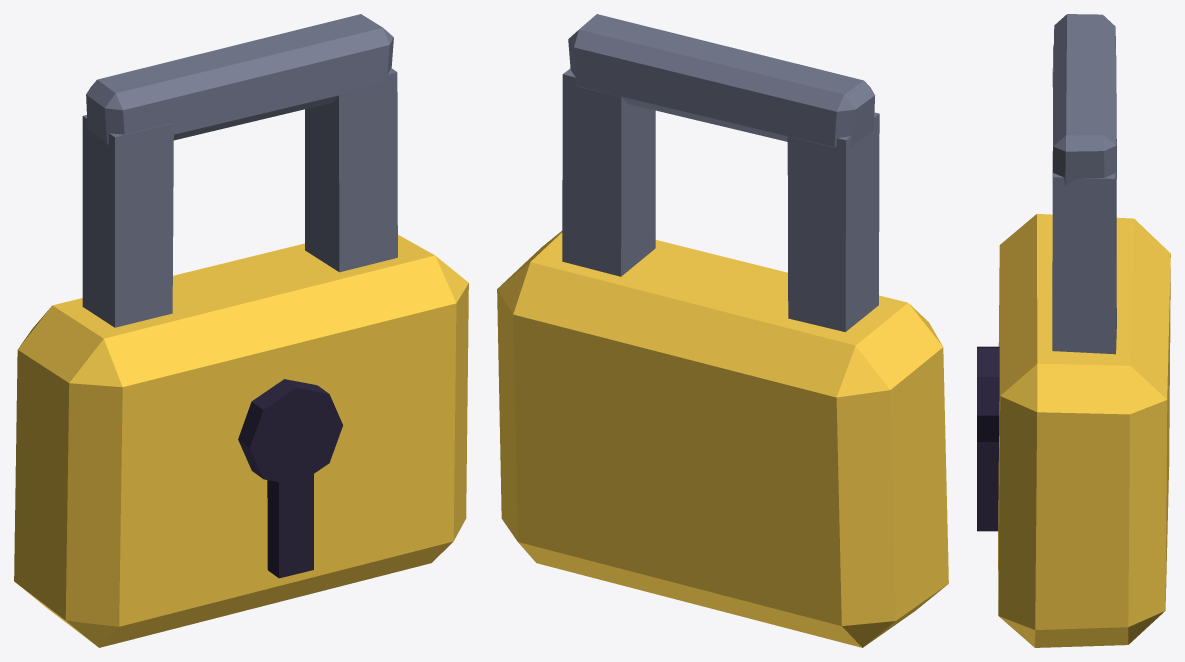
Rendered from padlock.fbx.
The picture shows the model from 3 angles, left to right: view 1: azimuth 30°, elevation 25°; view 2: azimuth 150°, elevation 25°; view 3: azimuth 270°, elevation 25°; orthographic projection. The views are drawn at different scales.
Visible parts, largest first — view 1: padlock; view 2: padlock; view 3: padlock.
Part boxes in pixels (left/top/right/bottom): padlock: left=14, top=14, right=468, bottom=647; padlock: left=497, top=14, right=948, bottom=647; padlock: left=977, top=14, right=1170, bottom=647.
Size of the model in its own units: 0.4157 by 0.5247 by 0.1838.
